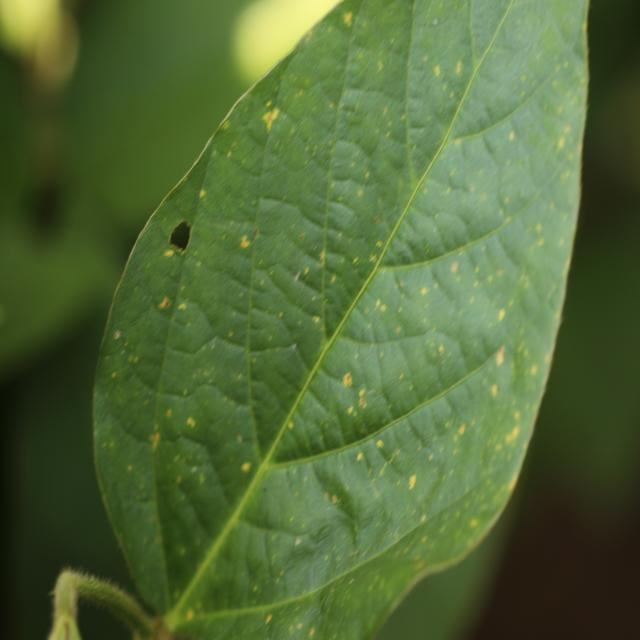Soybean: (64, 0, 592, 640)
downey_mildew: (95, 129, 256, 608), (239, 17, 390, 449), (385, 7, 582, 279), (155, 446, 373, 637), (198, 11, 346, 200), (141, 342, 280, 542), (313, 316, 475, 450), (143, 218, 198, 601), (318, 5, 370, 381), (470, 143, 573, 327), (94, 385, 172, 615), (133, 109, 243, 249), (404, 2, 498, 162), (103, 236, 189, 408), (406, 148, 529, 266), (199, 130, 287, 287), (258, 355, 398, 453), (357, 406, 455, 514), (334, 2, 410, 140), (243, 455, 356, 539), (337, 272, 452, 349), (251, 201, 327, 313), (451, 232, 533, 331), (251, 104, 320, 211), (246, 343, 318, 444), (104, 349, 171, 449), (459, 0, 523, 103), (175, 593, 325, 636), (161, 380, 250, 452), (166, 447, 233, 538), (333, 89, 397, 167), (156, 298, 221, 363), (238, 297, 302, 359), (182, 553, 248, 613), (403, 330, 469, 389), (325, 138, 380, 198), (408, 457, 455, 527), (324, 476, 363, 544), (414, 208, 472, 253), (320, 248, 367, 298), (291, 257, 332, 312), (285, 527, 330, 565), (325, 200, 366, 238), (262, 520, 275, 587)
